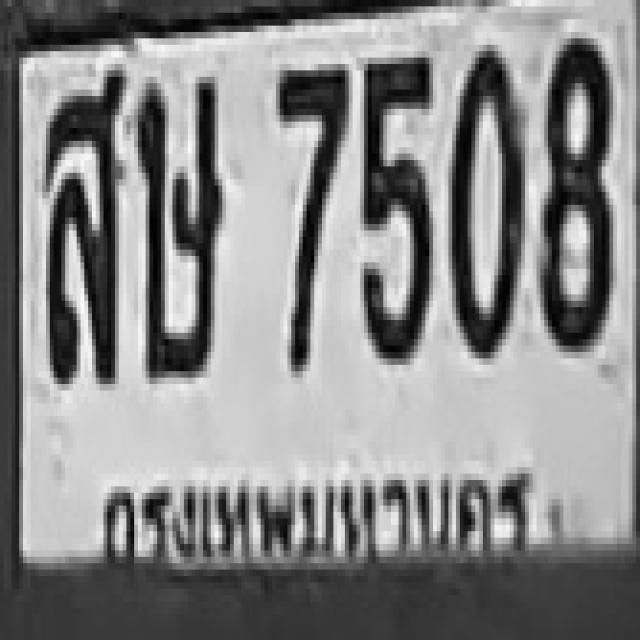-: (134, 70, 219, 378), (42, 67, 119, 381)
0: (448, 38, 522, 352)
5: (356, 52, 429, 358)
7: (272, 61, 345, 368), (272, 61, 345, 285)
8: (536, 32, 610, 346)
BKK: (87, 443, 549, 568)
